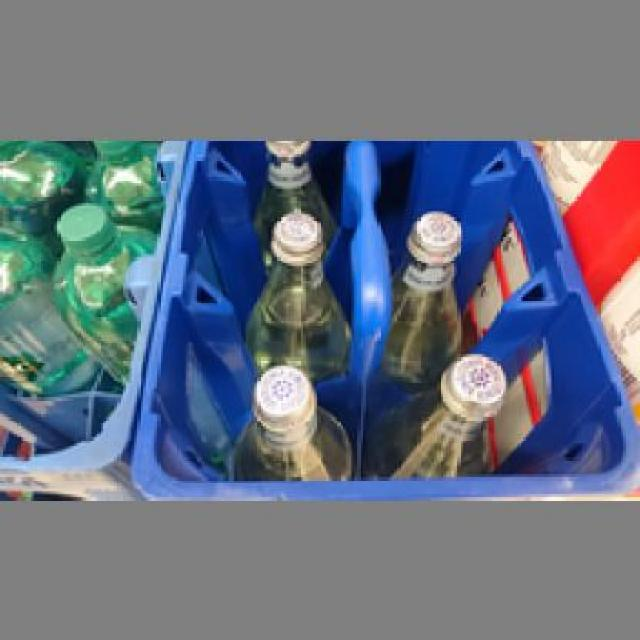Water: (236, 205, 352, 368), (363, 352, 511, 472), (219, 360, 355, 480), (383, 206, 460, 372)
